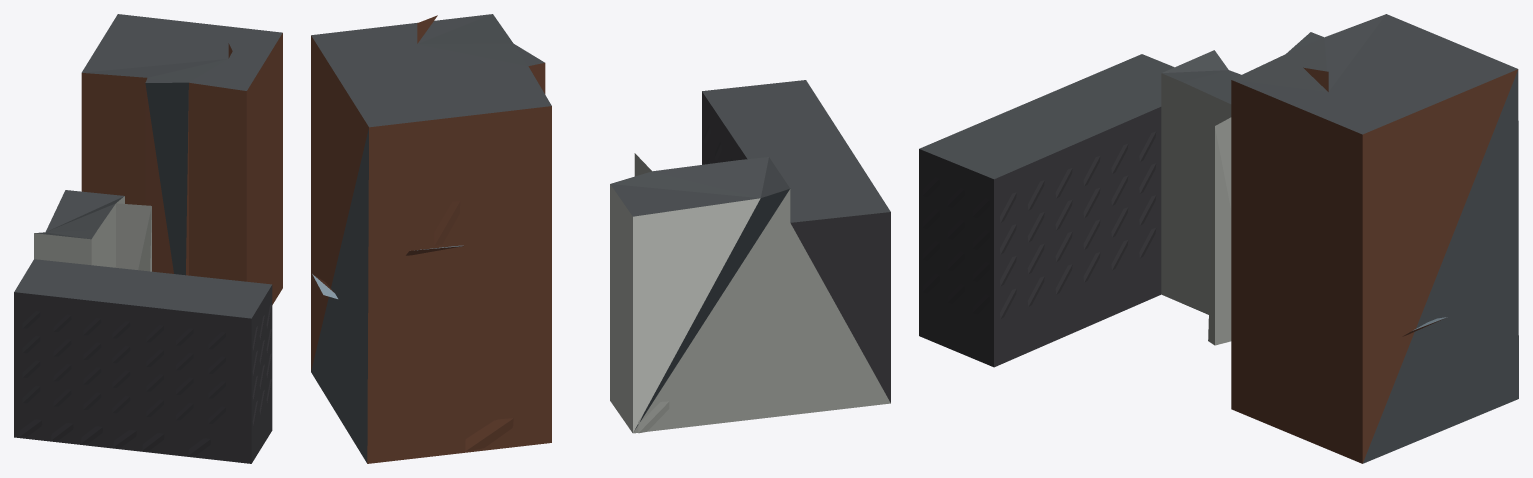
The model's file is oostenburgermiddenstraat-228.lod2.glb.
3 views of the same model, side by side, from view 1: azimuth 30°, elevation 25°; view 2: azimuth 150°, elevation 25°; view 3: azimuth 270°, elevation 25° (orthographic). The views are drawn at different scales.
Visible parts, largest first — view 1: lod2; view 2: lod2; view 3: lod2.
Part boxes in pixels (<box>): lod2: <box>14,14,282,463</box>; lod2: <box>311,14,890,463</box>; lod2: <box>919,14,1518,463</box>.
Size of the model in its own units: 58.61 by 42.97 by 66.7.
